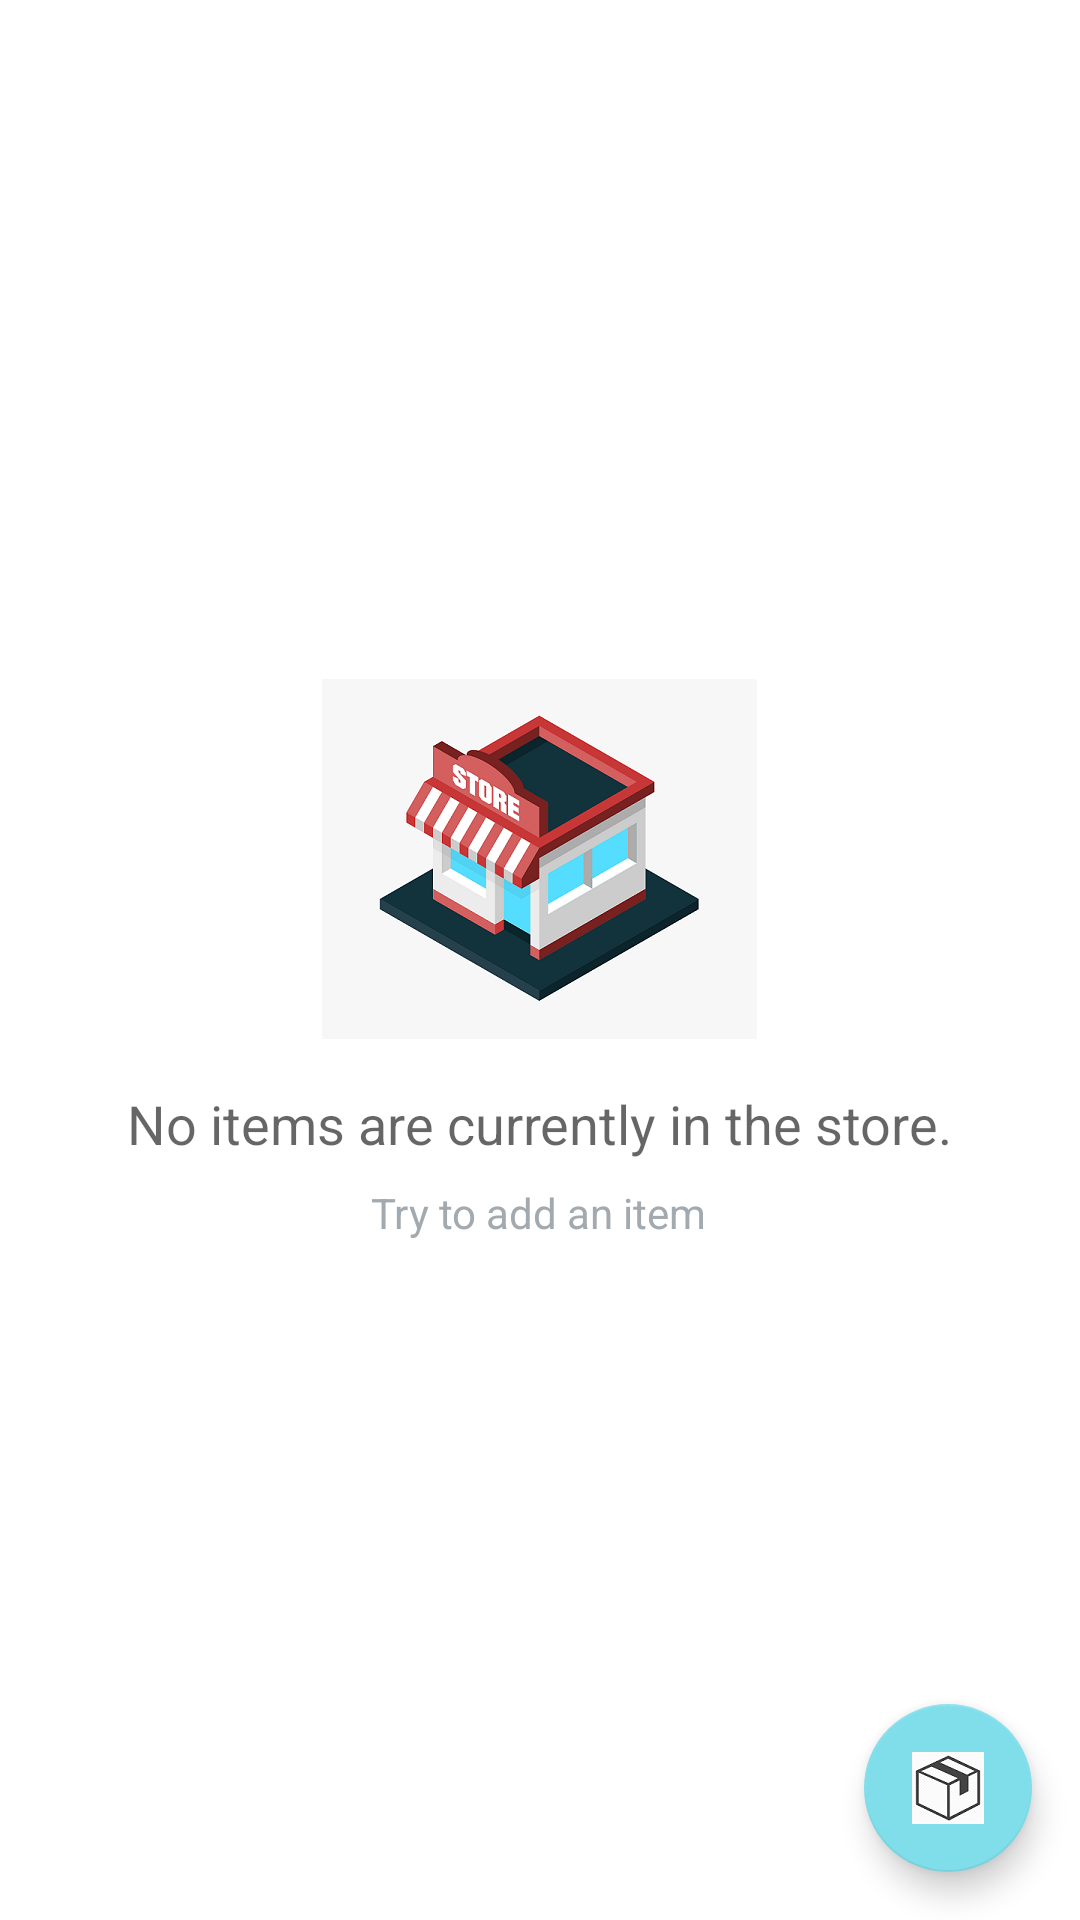

Where to tap for icons on this 1080×1920 app screen, as (x=x, y=y):
box: (x=948, y=1788)
Empty Store Image: (x=539, y=858)
